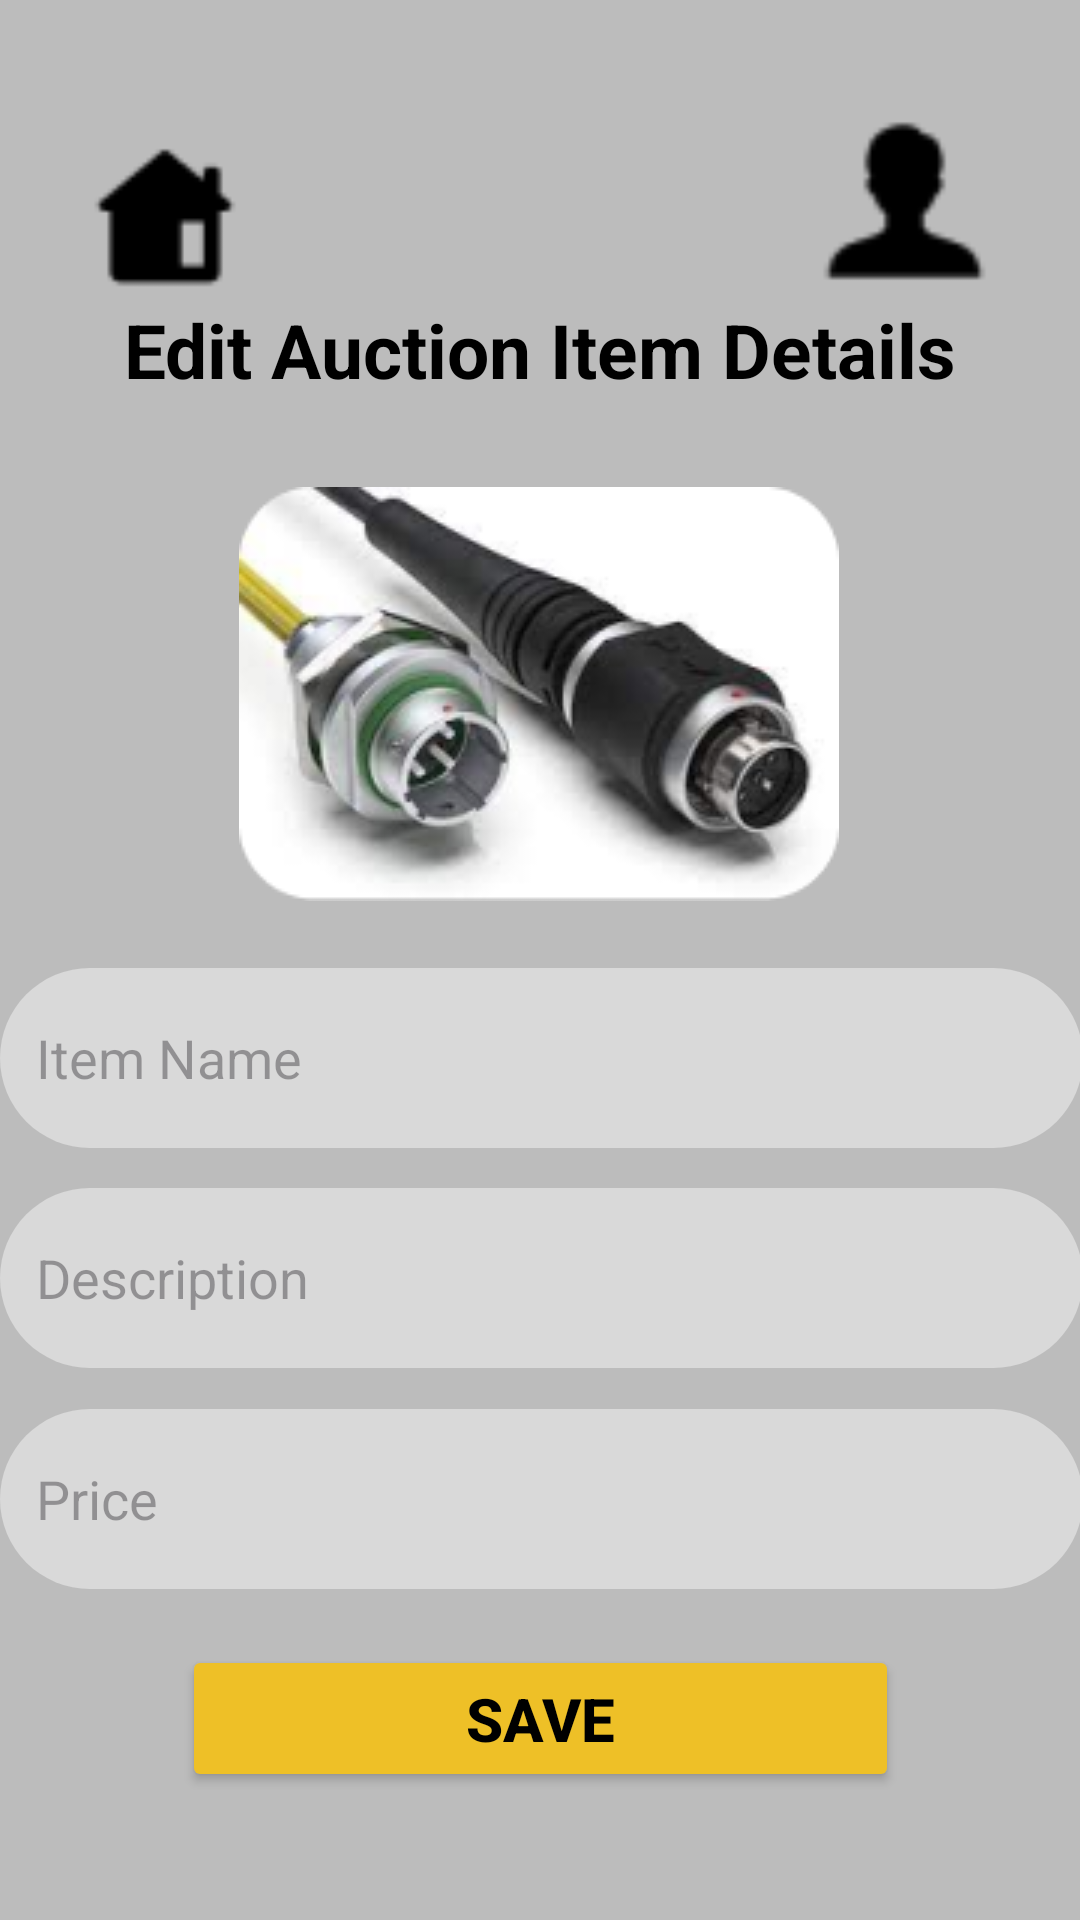

Locate icon controls on the screen. Image size 1080 × 1920, boxes as (x1, y1, x2, y2).
home: (96, 149, 234, 286)
user male: (826, 122, 983, 280)
